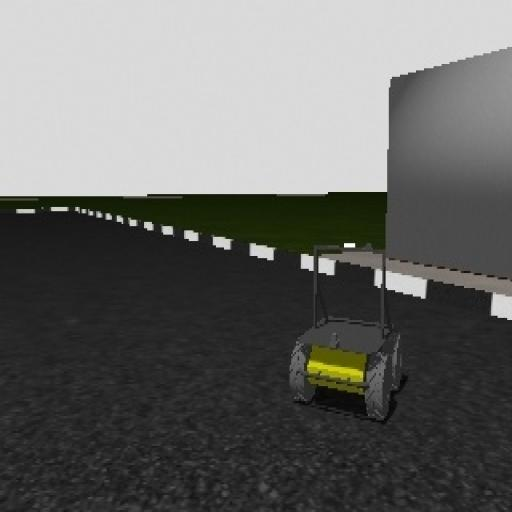huskya200: (282, 242, 405, 419)
